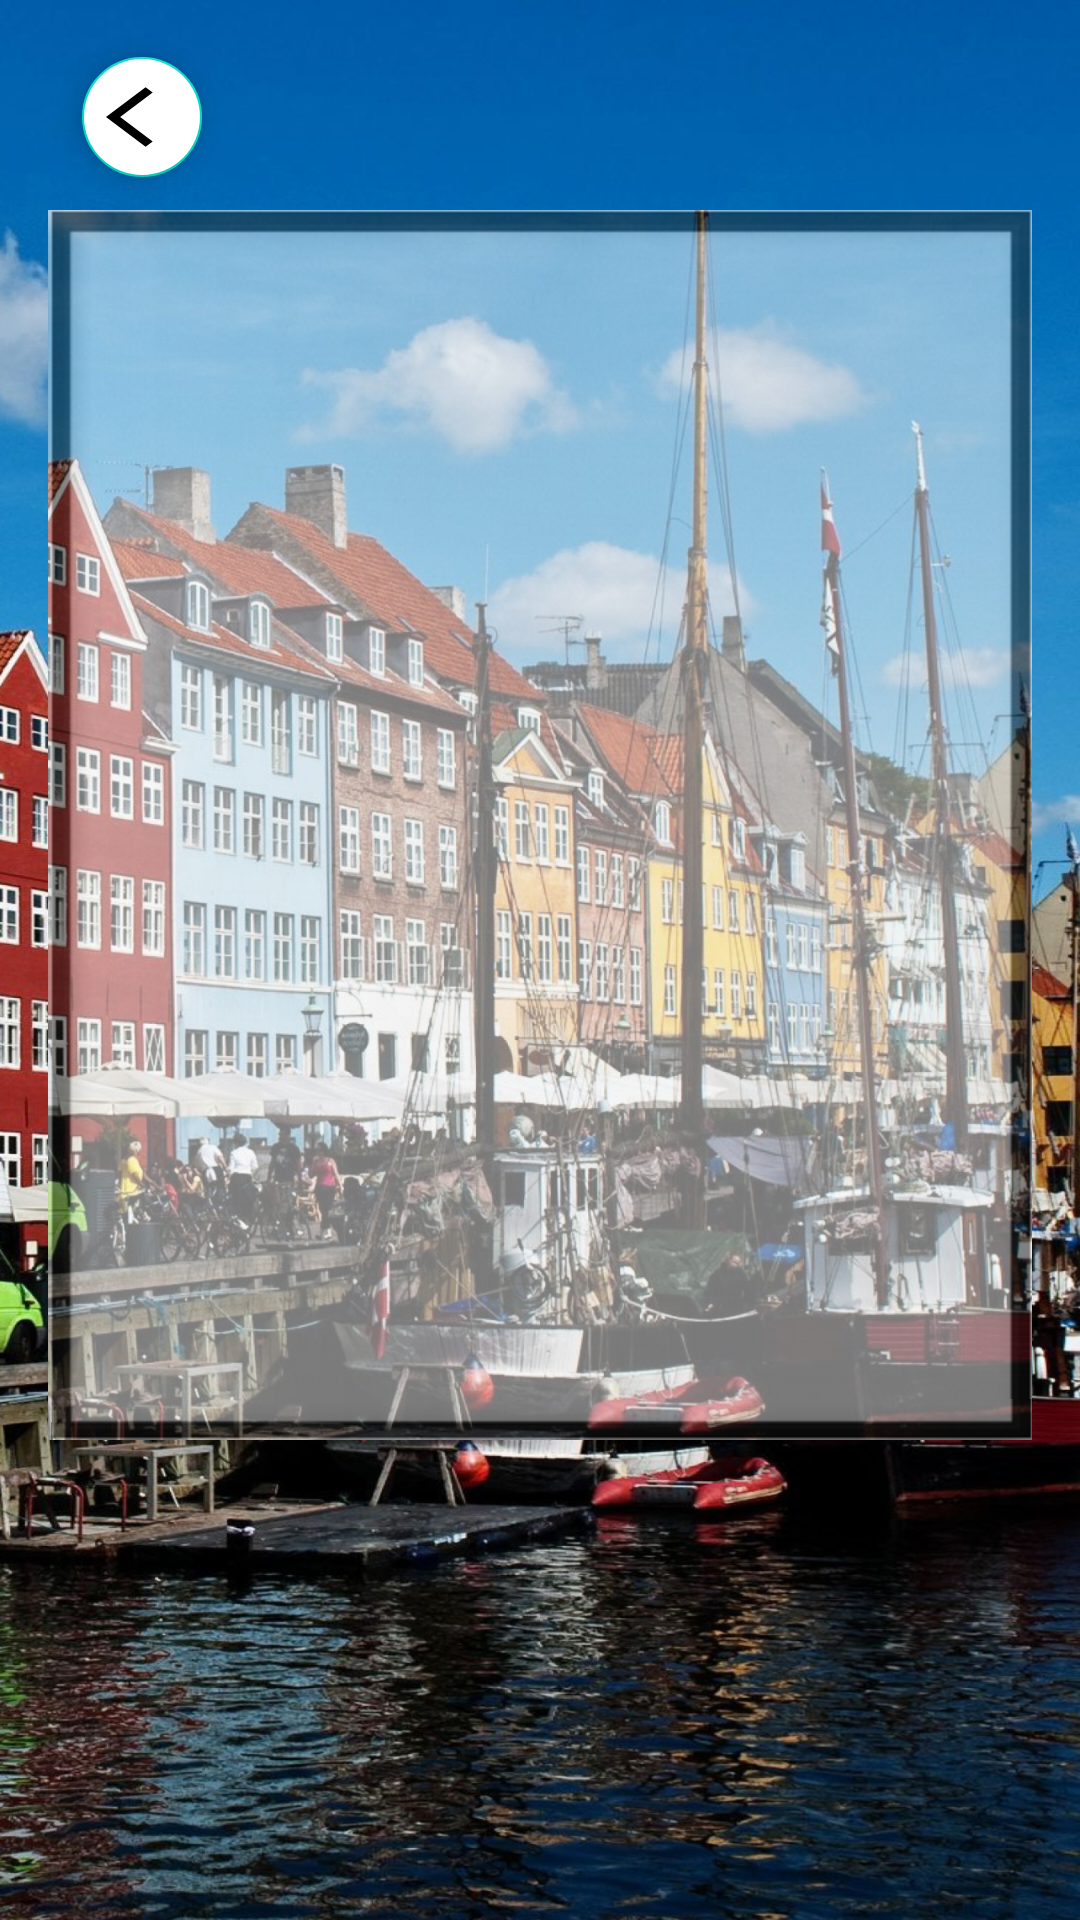

Where to tap for icons on this 1080*1920 app screen, as [x,y]:
arrow back: [142,117]
